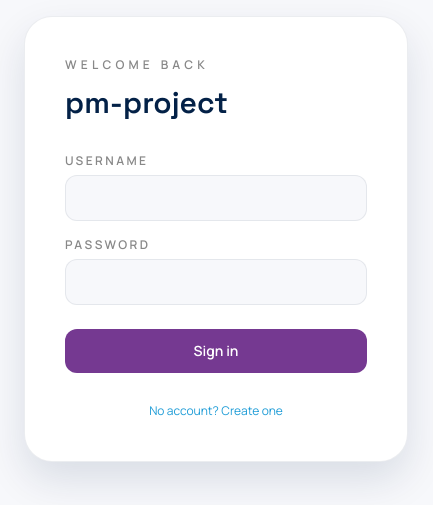
Test: LoginPage › switches to register mode when the toggle link is clicked
Click the button "No account? Create one". click: [216, 411]
box: [149,403,283,419]
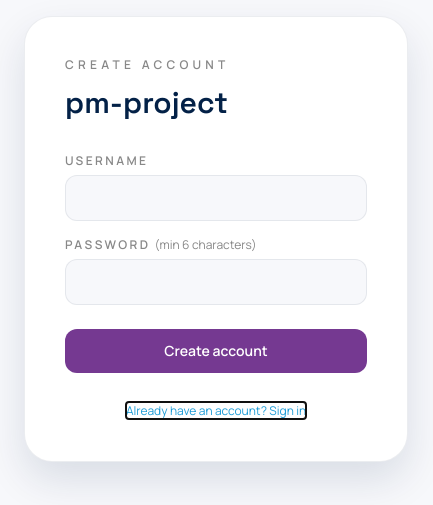
Result: the button "Create account" is shown at [65,329,367,373]
Result: the button "Already have an account? Sign in" is shown at [126,403,306,419]
